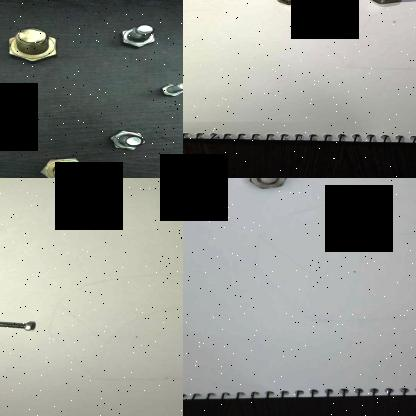Bolts: (2, 22, 84, 68), (118, 21, 172, 53), (33, 155, 93, 178), (105, 125, 150, 153), (0, 316, 42, 333), (161, 78, 183, 100)
NUTS: (248, 178, 293, 191), (183, 178, 213, 189), (365, 0, 409, 6), (273, 0, 306, 7)
